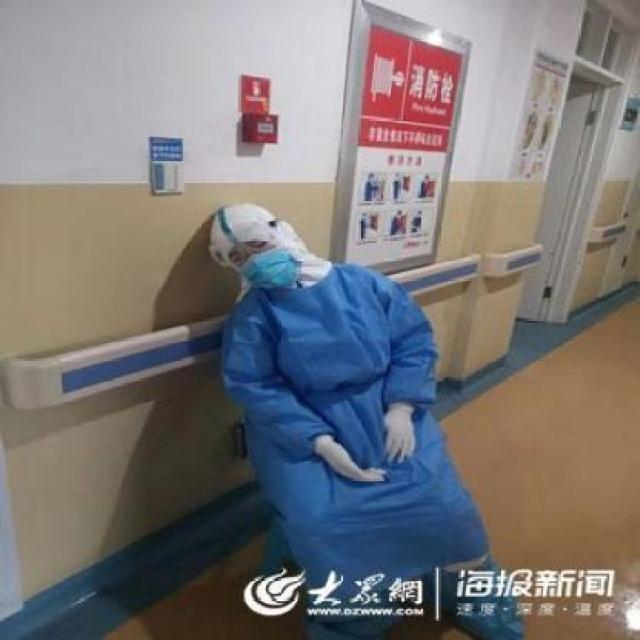face_mask: (231, 235, 300, 292)
hand_glove: (316, 437, 386, 485), (380, 404, 423, 468)
person: (170, 194, 568, 640)
